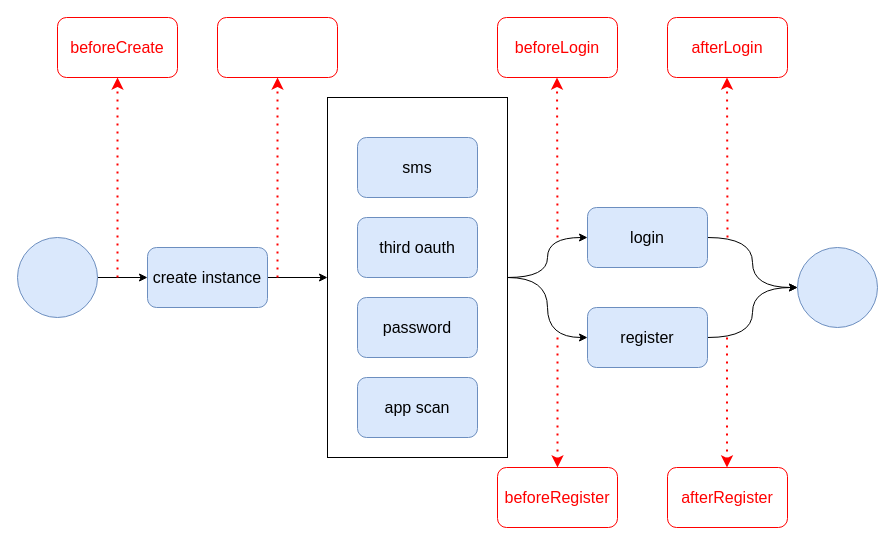
Image size: 895x545. Some labels were removed from this diagram. The box of each missing label's shape, as (x1, y1, x2, y2) in pixels:
created: (216, 16, 338, 78)
End: (796, 246, 878, 328)
Login Way: (326, 96, 508, 458)
Start: (16, 236, 98, 318)
